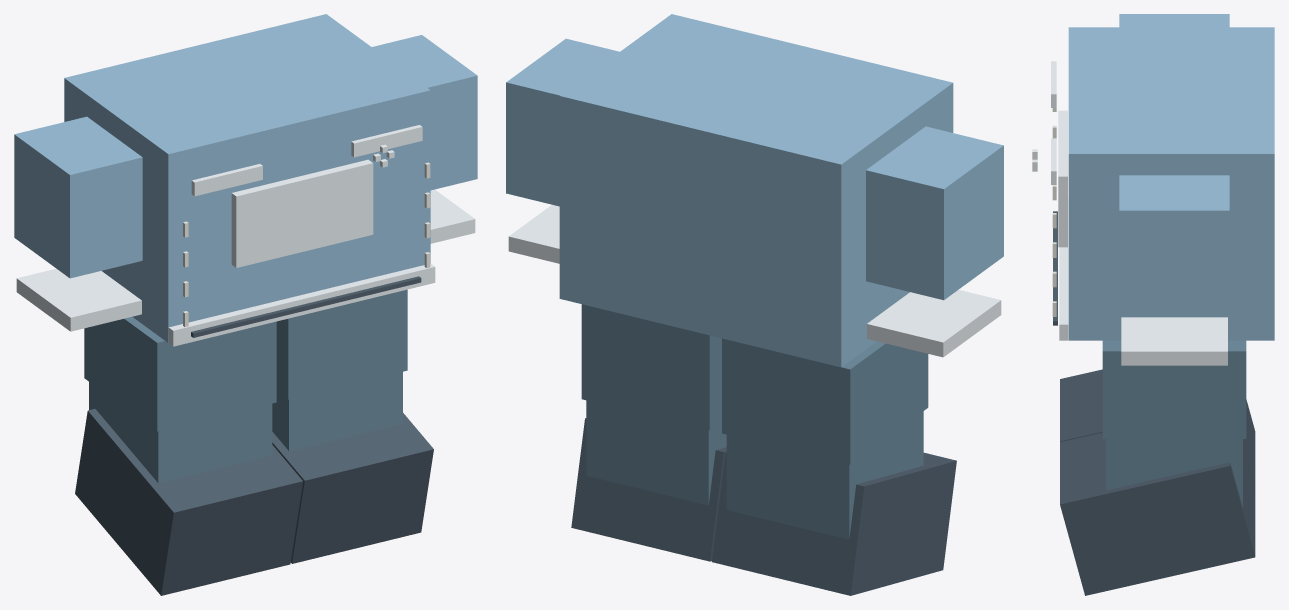
The model's file is casual-sky.glb.
3 renders of one model, left to right at view 1: azimuth 30°, elevation 25°; view 2: azimuth 150°, elevation 25°; view 3: azimuth 270°, elevation 25°, orthographic. The views are drawn at different scales.
Visible parts, largest first — view 1: jacket, shoe-Right, upper-sleeve-Right, trouser-Right, shoe-Left, tee-panel, trouser-Left, lower-trouser-Right, upper-sleeve-Left, lower-trouser-Left, cuff-Right, tee-hem (+4 smaller); view 2: jacket, upper-sleeve-Right, trouser-Right, shoe-Right, trouser-Left, lower-trouser-Right, lower-trouser-Left, upper-sleeve-Left, shoe-Left, cuff-Right, cuff-Left; view 3: jacket, shoe-Left, upper-sleeve-Left, trouser-Left, lower-trouser-Left, cuff-Left, shoe-Right, upper-sleeve-Right, tee-panel, tee-hem, design-casual-double-hem.
Boxes of the visible parts, <box> form: jacket: <box>64,14,430,342</box>; shoe-Right: <box>75,409,302,595</box>; upper-sleeve-Right: <box>14,116,142,278</box>; trouser-Right: <box>84,317,276,431</box>; shoe-Left: <box>272,413,433,563</box>; tee-panel: <box>231,159,373,267</box>; trouser-Left: <box>276,289,407,399</box>; lower-trouser-Right: <box>89,382,272,482</box>; upper-sleeve-Left: <box>372,35,477,190</box>; lower-trouser-Left: <box>272,372,402,451</box>; cuff-Right: <box>16,268,141,331</box>; tee-hem: <box>168,263,435,346</box>; jacket: <box>559,14,953,367</box>; upper-sleeve-Right: <box>866,126,1003,300</box>; trouser-Right: <box>722,338,928,464</box>; shoe-Right: <box>712,452,956,595</box>; trouser-Left: <box>581,304,721,430</box>; lower-trouser-Right: <box>726,411,923,539</box>; lower-trouser-Left: <box>586,400,726,505</box>; upper-sleeve-Left: <box>506,38,619,206</box>; shoe-Left: <box>571,418,726,561</box>; cuff-Right: <box>867,289,1001,357</box>; cuff-Left: <box>508,204,559,263</box>; jacket: <box>1068,27,1274,340</box>; shoe-Left: <box>1060,432,1255,595</box>; upper-sleeve-Left: <box>1119,175,1229,312</box>; trouser-Left: <box>1102,340,1246,438</box>; lower-trouser-Left: <box>1106,439,1242,507</box>; cuff-Left: <box>1121,317,1227,365</box>; shoe-Right: <box>1060,369,1255,493</box>; upper-sleeve-Right: <box>1119,14,1229,27</box>; tee-panel: <box>1058,110,1067,247</box>; tee-hem: <box>1059,198,1068,340</box>; design-casual-double-hem: <box>1053,211,1057,325</box>.
Bounding box in the file's own units: 1.07 × 1.13 × 0.559.
